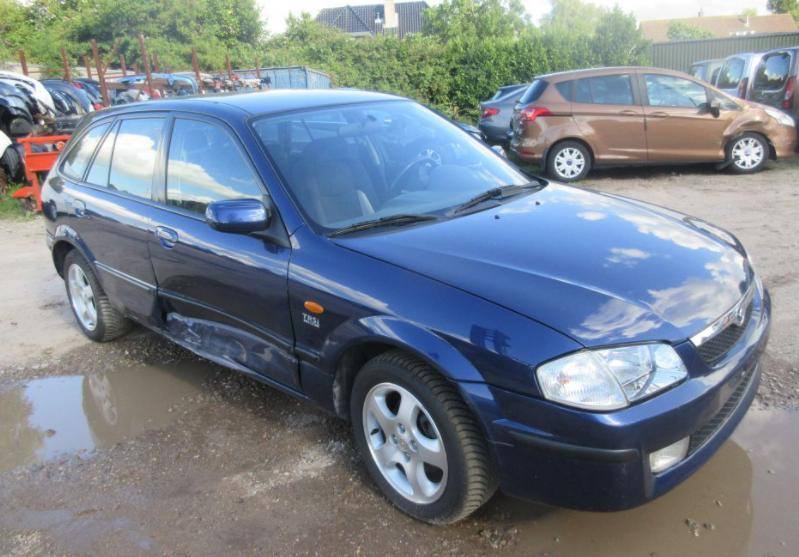Back-door: (63, 112, 170, 328)
Back-wheel: (64, 250, 133, 342)
Back-window: (85, 118, 164, 199), (57, 116, 115, 184)
Fender: (289, 224, 585, 410)
Front-bumper: (452, 278, 772, 513)
Front-door: (147, 113, 300, 392)
Front-wheel: (350, 350, 501, 524)
Front-window: (165, 118, 264, 213)
Grille: (696, 299, 754, 364)
Headlight: (535, 340, 687, 412), (748, 257, 765, 300)
Hood: (329, 178, 754, 346)
Mirror: (205, 199, 291, 248)
Quarter-panel: (41, 165, 74, 250)
Rocker-panel: (107, 298, 335, 417)
Roof: (90, 88, 415, 125)
Windshield: (242, 100, 549, 238)
